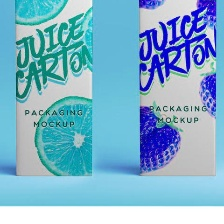carton: (10, 0, 98, 179), (136, 0, 219, 181)
